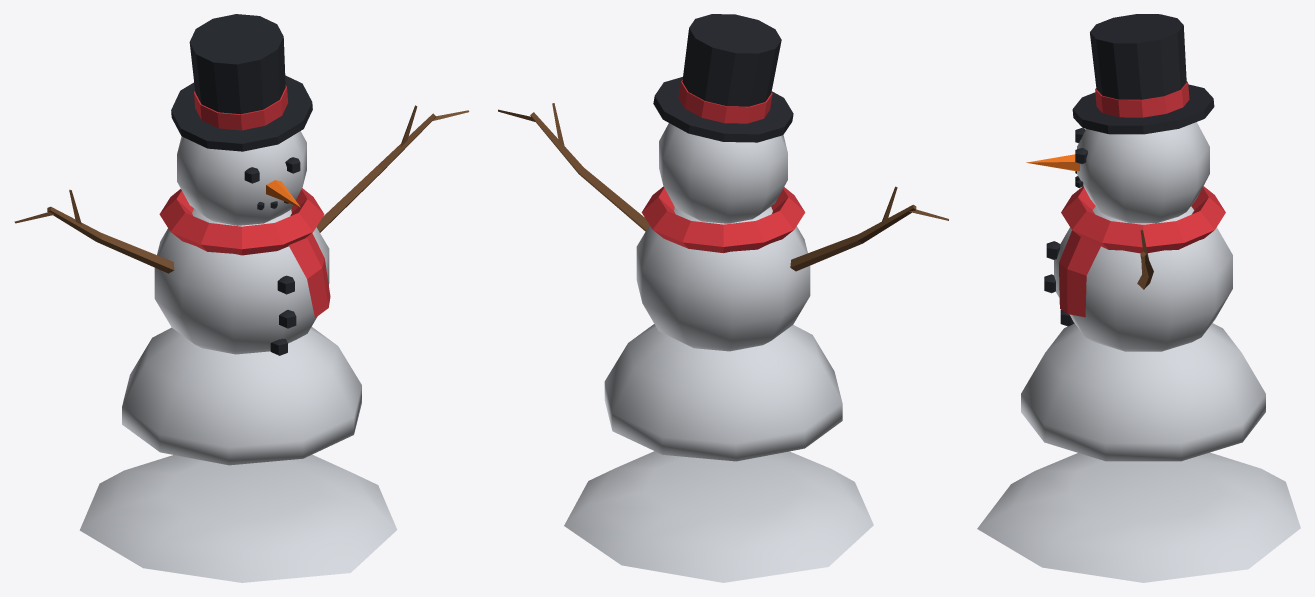
The model's file is snowman.glb.
3 renders of one model, left to right at view 1: azimuth 30°, elevation 25°; view 2: azimuth 150°, elevation 25°; view 3: azimuth 270°, elevation 25°, orthographic.
Parts seen in each view (by area): view 1: snowman; view 2: snowman; view 3: snowman.
Boxes of the visible parts, x1,y1,x2,y2 form: snowman: (14, 14, 469, 582); snowman: (498, 14, 948, 582); snowman: (977, 14, 1300, 582).
Size of the model in its own units: 2 by 2.06 by 1.24.
